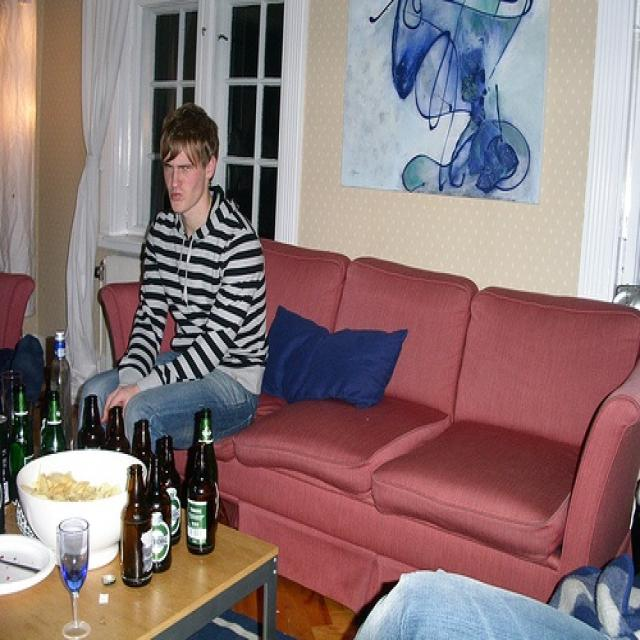bottle: (122, 458, 154, 586), (184, 440, 218, 555), (47, 328, 72, 443), (147, 456, 172, 568), (196, 408, 220, 522), (156, 433, 181, 542), (12, 384, 32, 500), (41, 394, 67, 449), (80, 396, 102, 447), (106, 404, 127, 450), (132, 420, 151, 462)
sofa: (94, 234, 638, 619)
